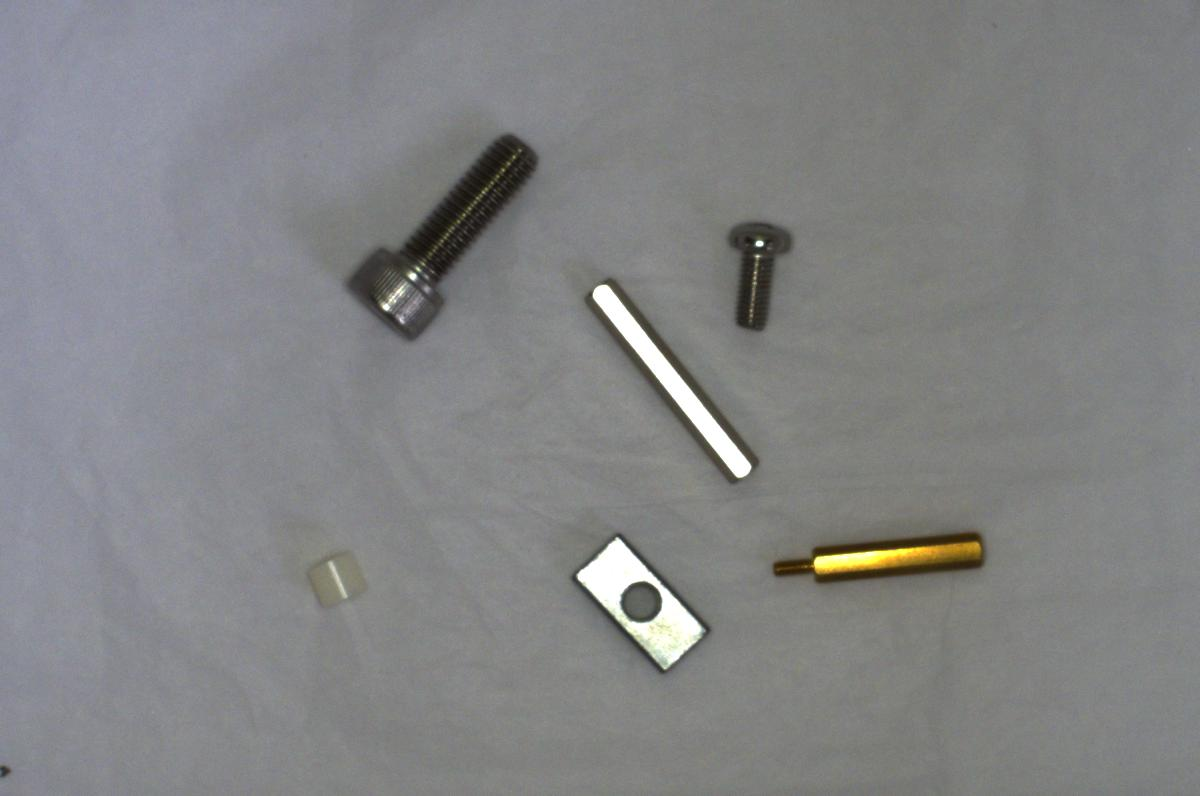Double hexagonal column: (570, 276, 766, 489)
Hexagon pillar: (762, 521, 986, 592)
Hexagon screw: (341, 128, 537, 340)
Plastic cushion pillar: (301, 536, 370, 610)
Rectangular nut: (564, 530, 718, 672)
Round head screw: (714, 216, 793, 332)
